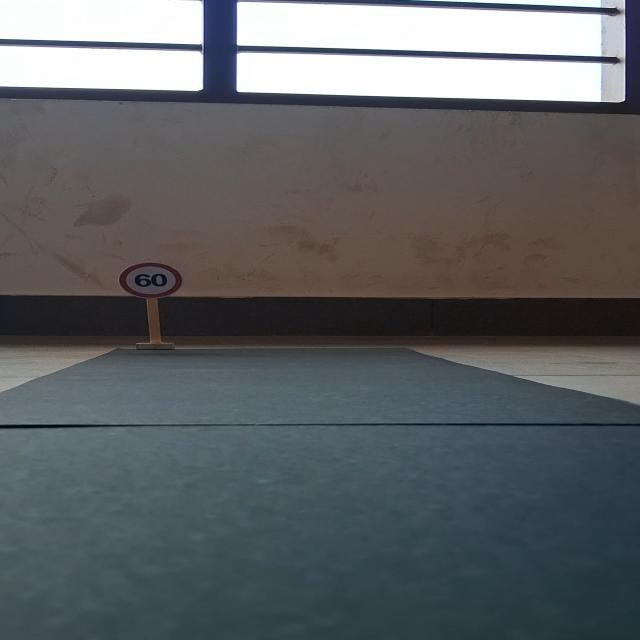Speed60: (118, 263, 187, 297)
